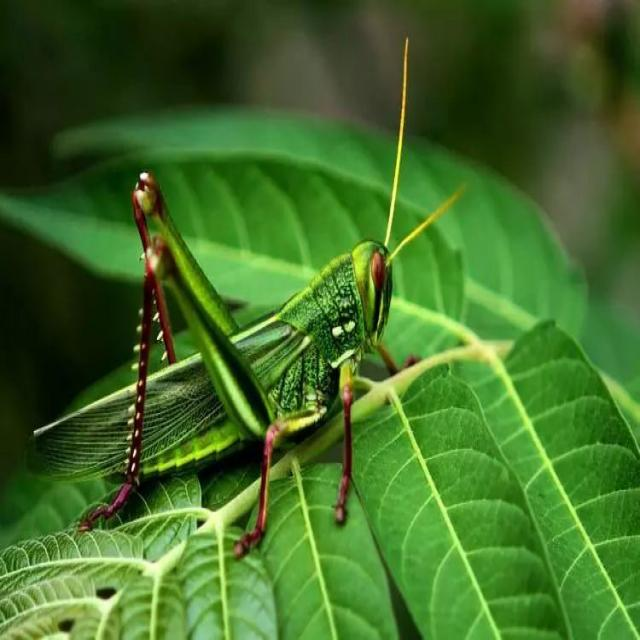ZhaMeng: (34, 142, 406, 518)
